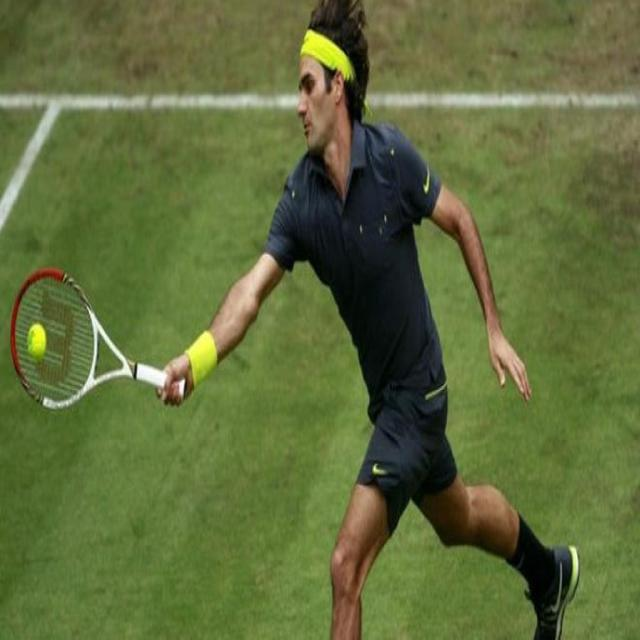Face: (297, 43, 336, 159)
